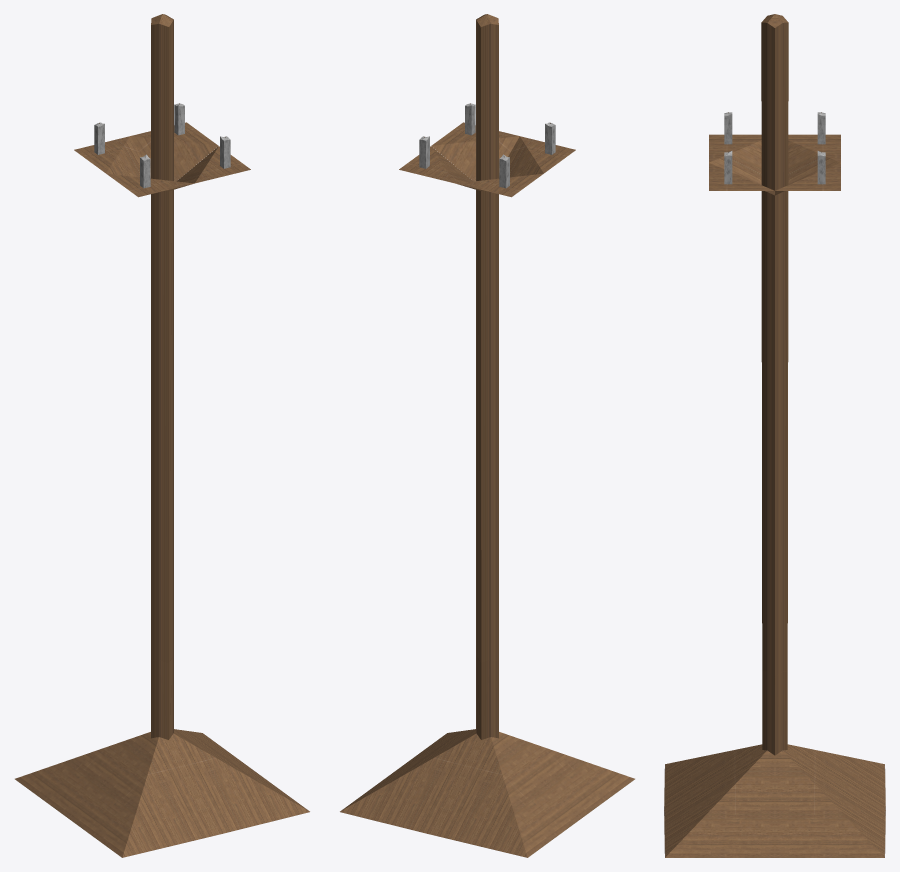
The model's file is candlestick.obj.
The picture shows the model from 3 angles, left to right: view 1: azimuth 30°, elevation 25°; view 2: azimuth 150°, elevation 25°; view 3: azimuth 270°, elevation 25°; orthographic projection.
Parts seen in each view (by area): view 1: 平面; view 2: 平面; view 3: 平面.
Part boxes in pixels (x1=…): 平面: x1=15, y1=14, x2=309, y2=857; 平面: x1=340, y1=14, x2=634, y2=857; 平面: x1=664, y1=14, x2=885, y2=857.
Bounding box in the file's own units: 0.4653 × 1.84 × 0.4653.
1 material, 1 textured.
